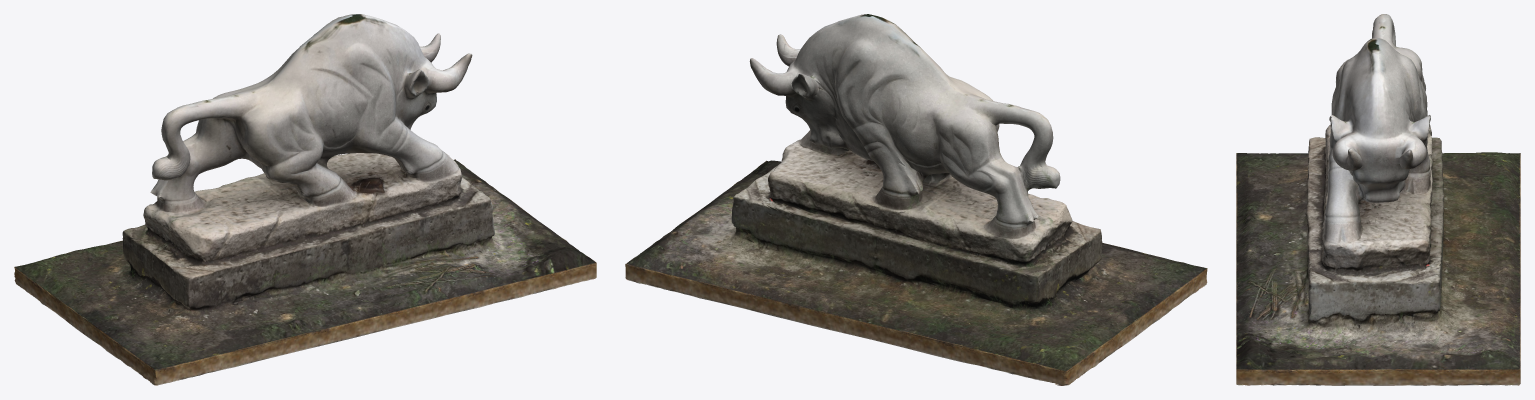
The model's file is statua_toro.glb.
3 views of the same model, side by side, from view 1: azimuth 30°, elevation 25°; view 2: azimuth 150°, elevation 25°; view 3: azimuth 270°, elevation 25° (orthographic).
Parts seen in each view (by area): view 1: Object_3; view 2: Object_3; view 3: Object_3.
Part boxes in pixels (left/top/right/bottom): Object_3: left=14, top=14, right=596, bottom=385; Object_3: left=625, top=14, right=1207, bottom=385; Object_3: left=1236, top=14, right=1520, bottom=385.
Size of the model in its own units: 38.92 by 21.44 by 21.58.
1 material, 1 textured.
